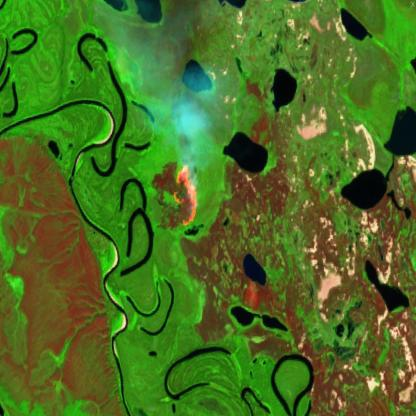fire: (169, 161, 202, 230)
